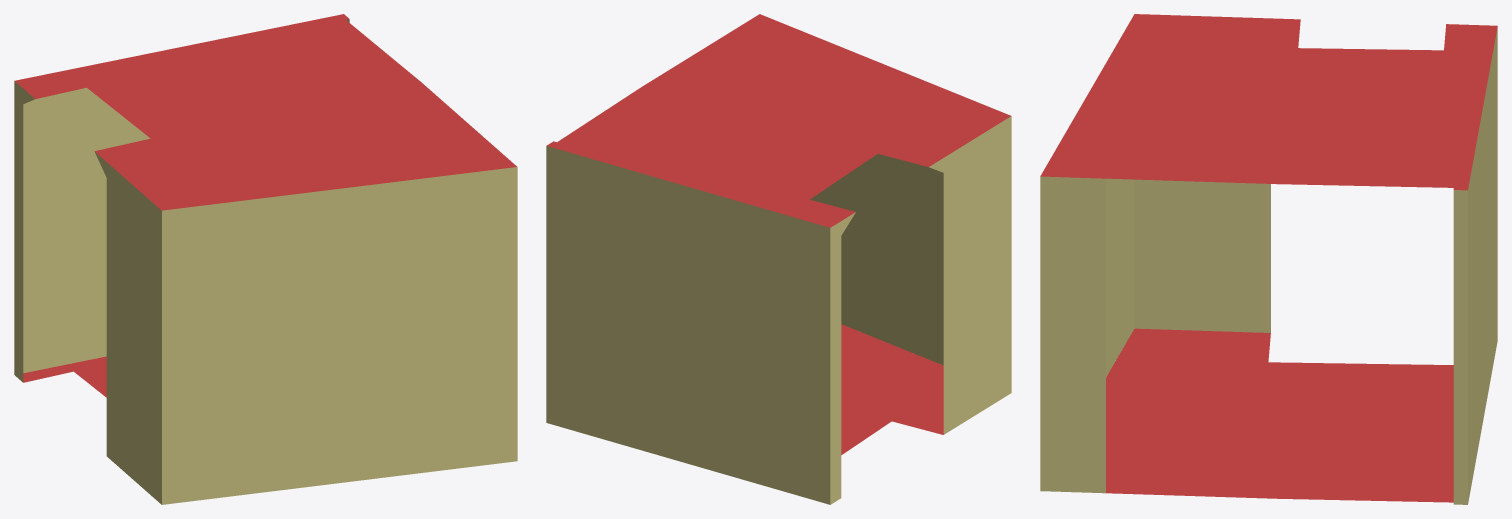
The picture shows the model from 3 angles, left to right: view 1: azimuth 30°, elevation 25°; view 2: azimuth 150°, elevation 25°; view 3: azimuth 270°, elevation 25°; orthographic projection. The views are drawn at different scales.
Visible parts, largest first — view 1: group_4, group_3, group_5; view 2: group_4, group_3, group_5; view 3: group_3, group_4, group_5.
Boxes of the visible parts, x1,y1,x2,y2 form: group_4: (14,19,517,504); group_3: (15,14,516,210); group_5: (23,356,106,397); group_4: (546,116,1011,504); group_3: (547,14,1010,227); group_5: (841,324,943,454); group_3: (1040,14,1497,190); group_4: (1040,27,1497,504); group_5: (1106,328,1453,502).
Size of the model in its own units: 15.22 by 16.69 by 12.66.
